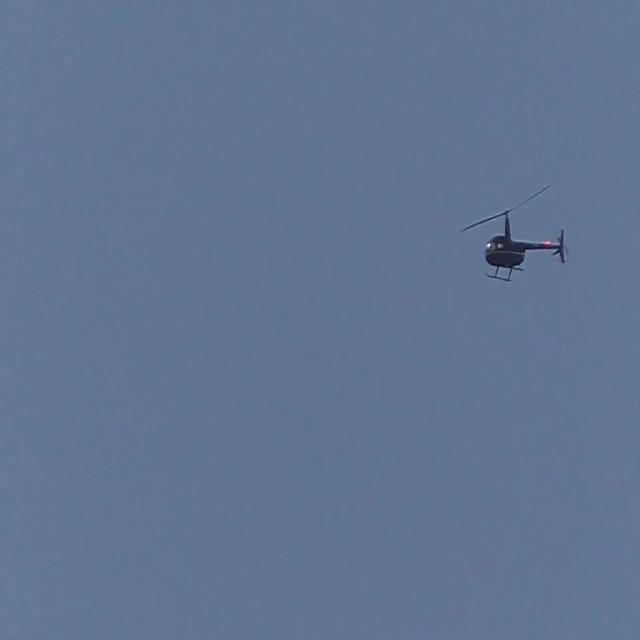CIV_HELO: (484, 210, 569, 284)
